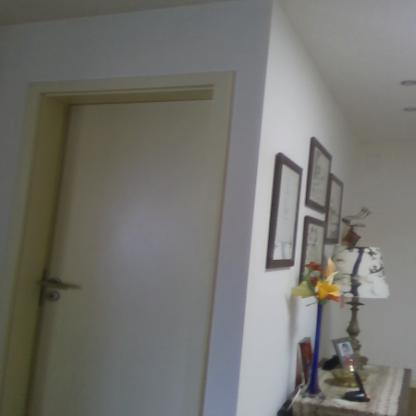door: (37, 101, 204, 416)
lever: (38, 281, 73, 292)
